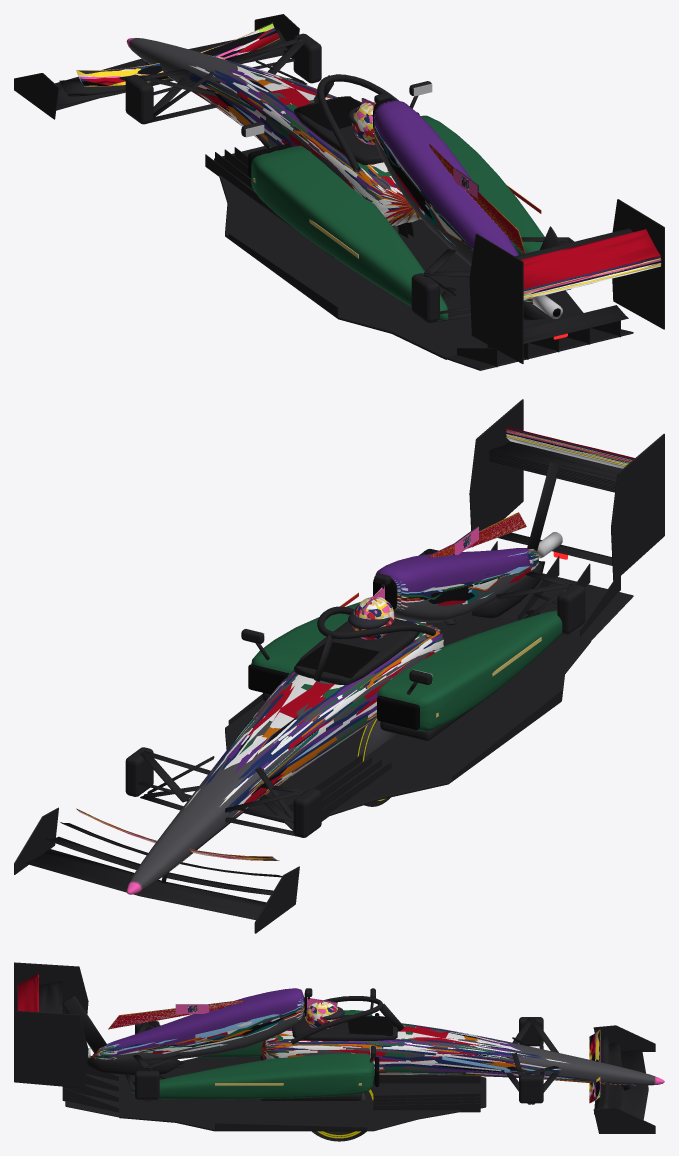
File: cars.glb
3 renders of one model, top to bottom at view 1: azimuth 30°, elevation 25°; view 2: azimuth 150°, elevation 25°; view 3: azimuth 270°, elevation 25°, orthographic. The views are drawn at different scales.
Visible parts, largest first — view 1: Rival1_body, Forest_body, Pink_body, Crimson_body, Purple_body, Navy_body, Ember_body, PurpleMate_body, Frost_body, HeroMate_body, CrimsonMate_body, Hero_body; view 2: Rival1_body, Pink_body, Forest_body, Navy_body, Purple_body, Crimson_body, Ember_body, Frost_body, PurpleMate_body, Sky_body, Rival1Mate_body; view 3: Rival1_body, Pink_body, Forest_body, Navy_body, Purple_body, Crimson_body, Ember_body, Frost_body, PurpleMate_body, Sky_body, ForestMate_body, Hero_body (+8 smaller).
Boxes of the visible parts, x1,y1,x2,y2 form: Rival1_body: (14, 14, 664, 370); Forest_body: (50, 14, 664, 370); Pink_body: (14, 15, 661, 369); Crimson_body: (42, 15, 664, 366); Purple_body: (43, 15, 660, 369); Navy_body: (56, 27, 660, 370); Ember_body: (35, 14, 664, 365); PurpleMate_body: (133, 65, 518, 255); Frost_body: (55, 23, 648, 365); HeroMate_body: (137, 31, 556, 293); CrimsonMate_body: (258, 78, 648, 266); Hero_body: (81, 30, 660, 286); Rival1_body: (14, 403, 631, 932); Pink_body: (15, 431, 664, 930); Forest_body: (14, 429, 664, 933); Navy_body: (27, 437, 664, 918); Purple_body: (23, 435, 632, 916); Crimson_body: (14, 399, 664, 932); Ember_body: (14, 402, 664, 925); Frost_body: (14, 432, 628, 930); PurpleMate_body: (83, 538, 530, 860); Sky_body: (289, 434, 628, 763); Rival1Mate_body: (84, 536, 537, 860); Rival1_body: (14, 965, 655, 1133); Pink_body: (14, 988, 664, 1129); Forest_body: (14, 975, 655, 1133); Navy_body: (14, 988, 647, 1129); Purple_body: (62, 988, 636, 1131); Crimson_body: (14, 962, 655, 1130); Ember_body: (14, 964, 655, 1127); Frost_body: (62, 999, 655, 1133); PurpleMate_body: (107, 988, 632, 1085); Sky_body: (101, 997, 624, 1084); ForestMate_body: (104, 1003, 630, 1090); Hero_body: (130, 1005, 629, 1100).
Size of the model in its own units: 1.73 by 1.44 by 5.76.
